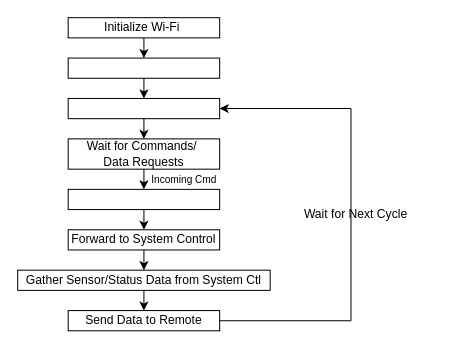
This 449x348 diagram has some shape labels left out. The centre of each missing label's shape, as x and y in pixels:
"Configure Wi-Fi Module" belongs at point (143, 67).
"Enter Wi-Fi Loop" belongs at point (143, 108).
"Parse Command" belongs at point (143, 199).
